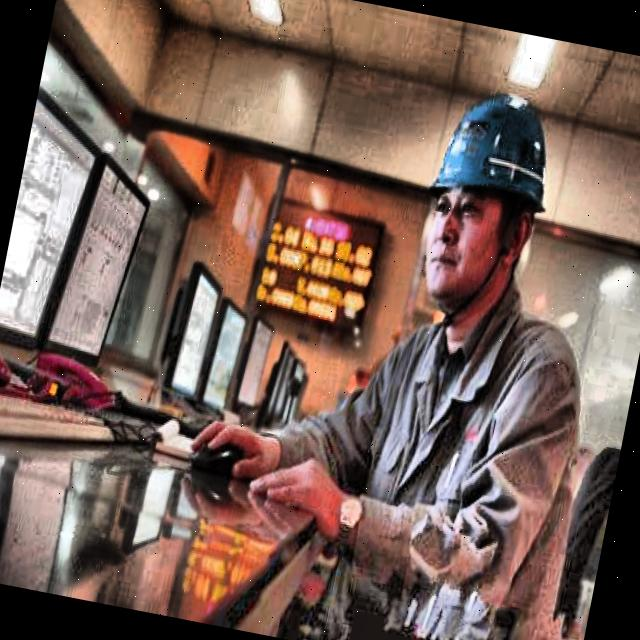helmet: (385, 56, 583, 342)
